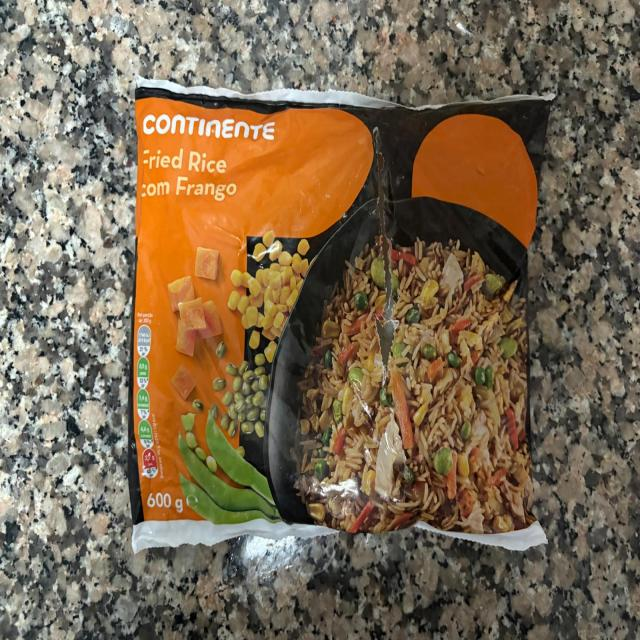damaged_package: (127, 73, 552, 554)
